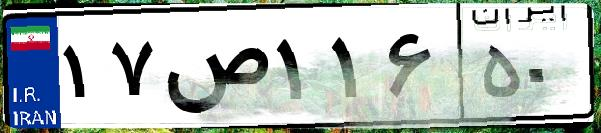0: (525, 38, 570, 115)
1: (270, 28, 330, 110), (330, 28, 385, 110), (57, 26, 110, 100)
5: (475, 38, 525, 113)
6: (385, 28, 445, 110)
7: (110, 28, 158, 98)
ص: (158, 20, 270, 120)
